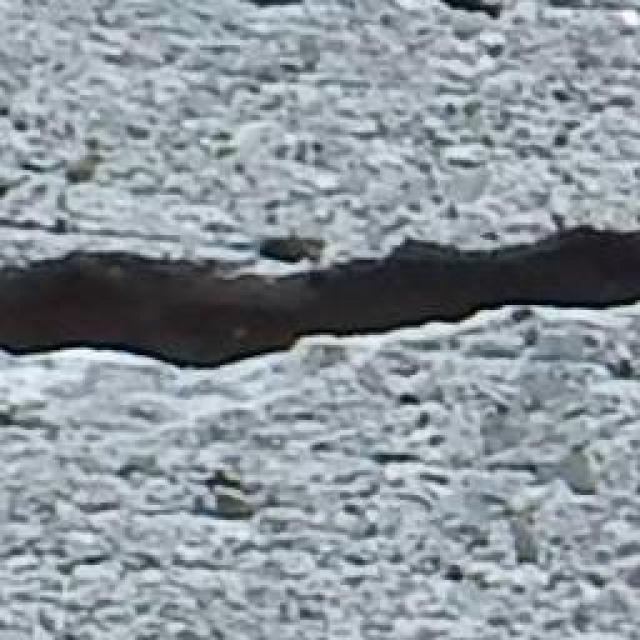concrete-crack: (0, 216, 640, 381)
